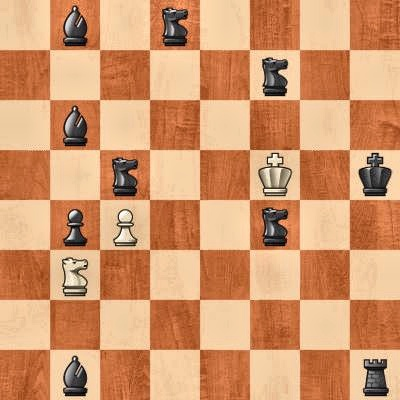black-bishop: (50, 0, 100, 50), (50, 100, 100, 150), (50, 350, 100, 400)
black-king: (350, 150, 400, 200)
black-knight: (150, 0, 200, 50), (250, 50, 300, 100), (100, 150, 150, 200), (250, 200, 300, 250)
black-pawn: (50, 200, 100, 250)
black-rook: (350, 350, 400, 400)
white-king: (250, 150, 300, 200)
white-knight: (50, 250, 100, 300)
white-pawn: (100, 200, 150, 250)
